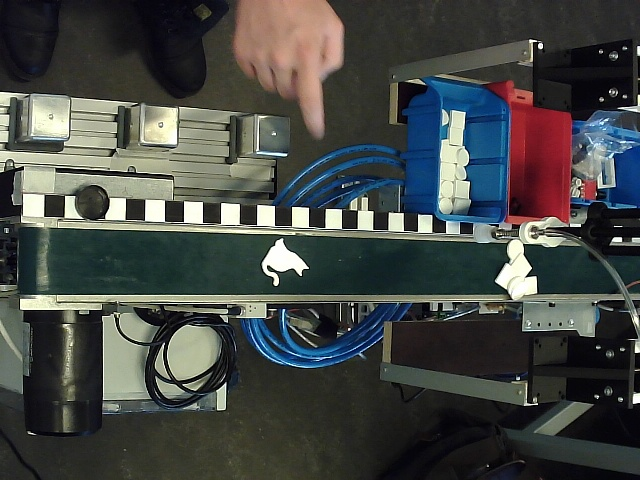cat: (261, 238, 310, 286)
